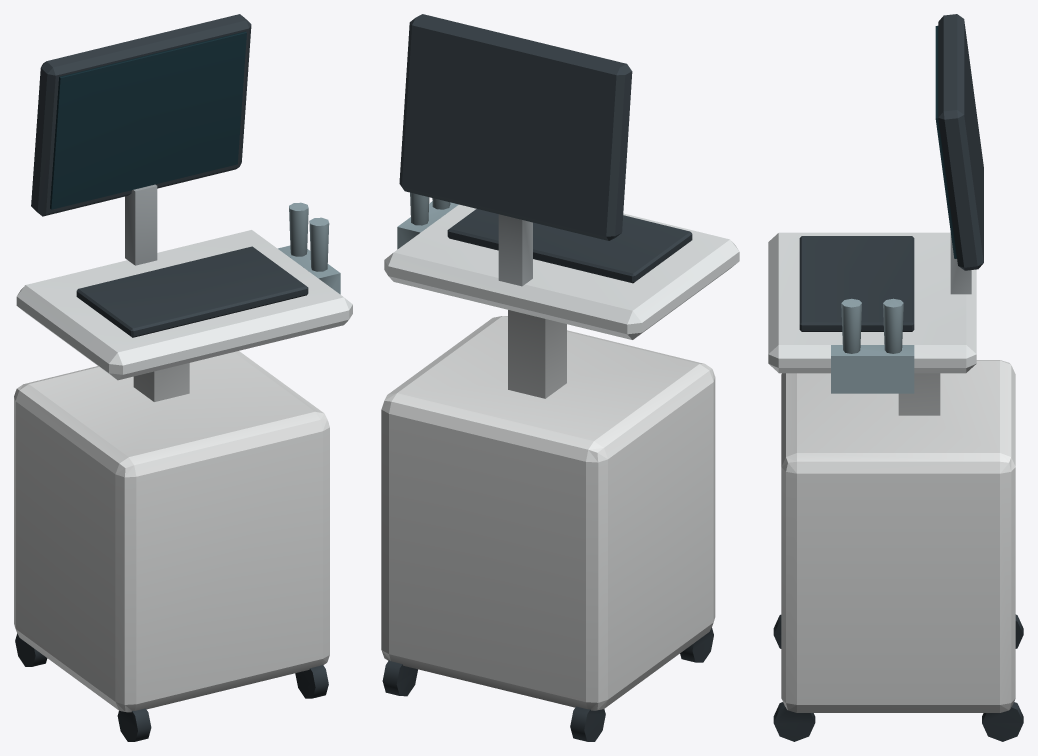
3 renders of one model, left to right at view 1: azimuth 30°, elevation 25°; view 2: azimuth 150°, elevation 25°; view 3: azimuth 270°, elevation 25°, orthographic. The views are drawn at different scales.
Parts seen in each view (by area): view 1: body, screen, deck, keyboard, monitor, probes, stand, wheels; view 2: body, monitor, deck, keyboard, wheels, stand, probes; view 3: body, deck, keyboard, monitor, probes, wheels, screen, stand.
Part boxes in pixels (<box>): body: <box>14,351,329,712</box>; screen: <box>50,31,246,209</box>; deck: <box>16,230,352,401</box>; keyboard: <box>76,246,308,337</box>; monitor: <box>31,14,251,216</box>; probes: <box>278,202,340,294</box>; stand: <box>125,184,157,265</box>; wheels: <box>15,633,328,741</box>; body: <box>381,316,715,710</box>; monitor: <box>399,14,632,240</box>; deck: <box>384,204,739,398</box>; keyboard: <box>447,209,692,283</box>; wheels: <box>382,627,713,741</box>; stand: <box>498,214,532,286</box>; probes: <box>397,192,458,249</box>; body: <box>781,360,1015,712</box>; deck: <box>768,232,976,415</box>; keyboard: <box>799,236,914,331</box>; monitor: <box>938,14,983,270</box>; probes: <box>831,298,914,393</box>; wheels: <box>773,614,1023,741</box>; screen: <box>935,25,956,258</box>; stand: <box>950,233,971,294</box>.
Size of the model in its own units: 0.58 by 1.34 by 0.49.
